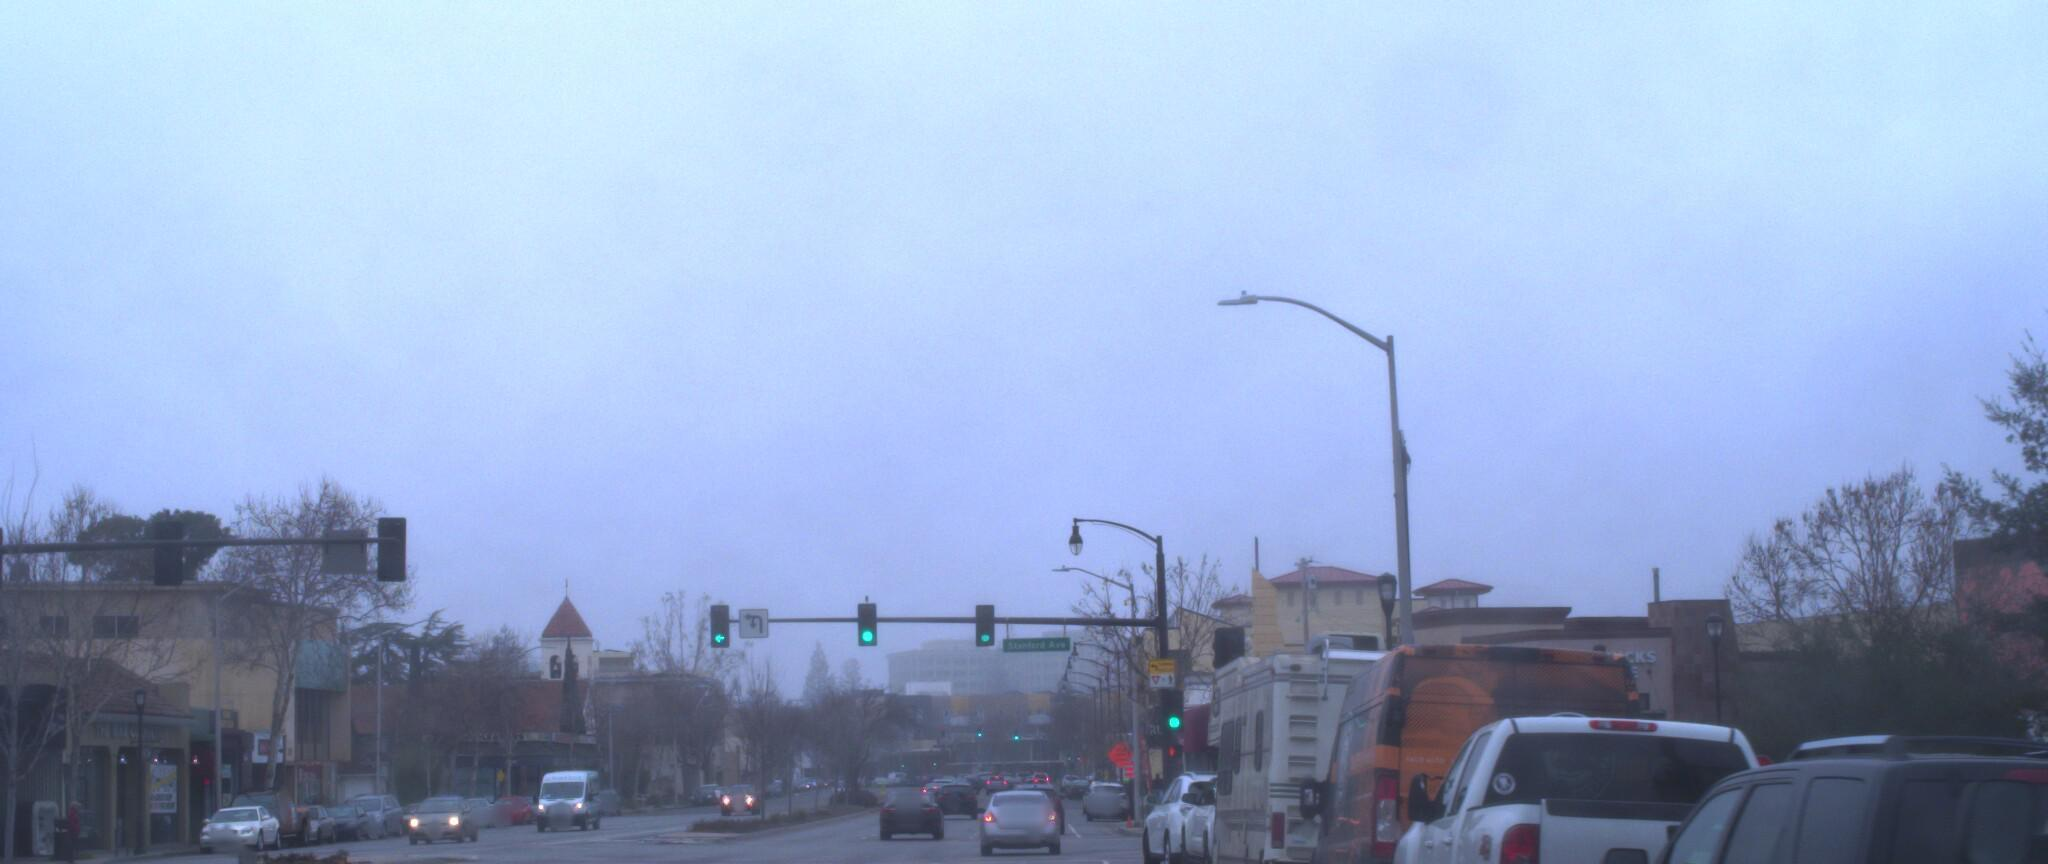car: (1364, 693, 1919, 864), (1285, 637, 1682, 864), (1852, 406, 2048, 864), (1523, 720, 2048, 864), (961, 780, 1063, 864)
other_vehicle: (1187, 604, 1561, 864)
